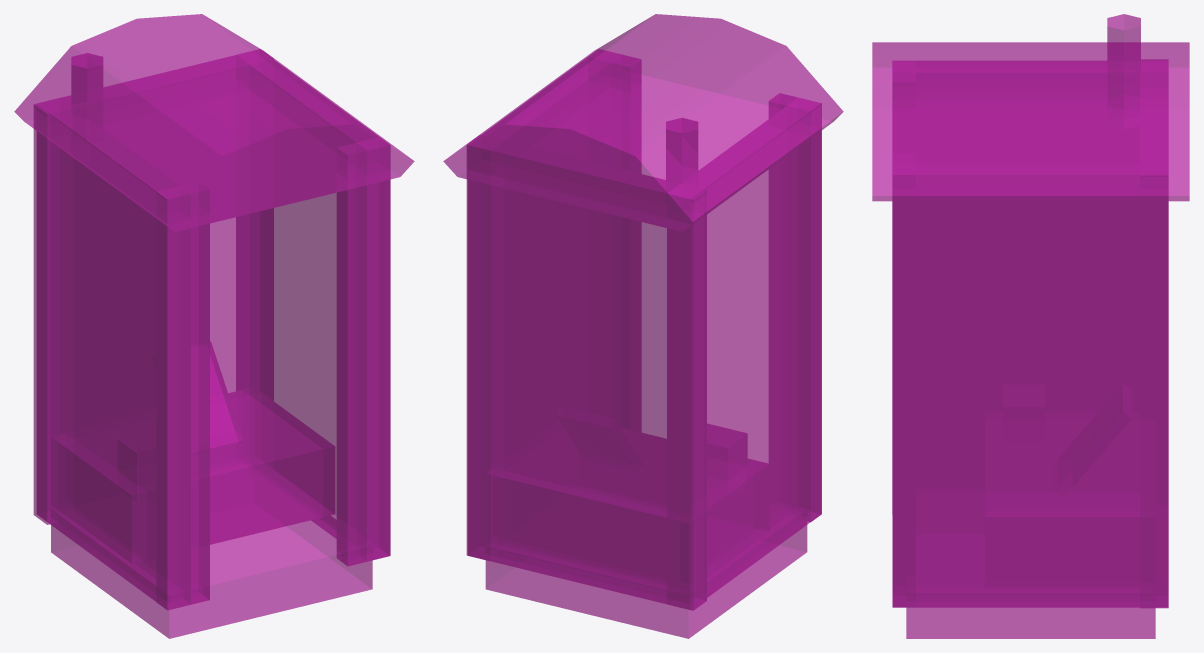
The model's file is SM_Prop_Portaloo_01_Collision.fbx.
3 views of the same model, side by side, from view 1: azimuth 30°, elevation 25°; view 2: azimuth 150°, elevation 25°; view 3: azimuth 270°, elevation 25° (orthographic). The views are drawn at different scales.
Parts seen in each view (by area): view 1: SM_Prop_Portaloo_01_Collision; view 2: SM_Prop_Portaloo_01_Collision; view 3: SM_Prop_Portaloo_01_Collision.
Boxes of the visible parts, box(x1,y1,x2,y2) form: SM_Prop_Portaloo_01_Collision: box(14, 14, 414, 638); SM_Prop_Portaloo_01_Collision: box(443, 14, 843, 638); SM_Prop_Portaloo_01_Collision: box(872, 14, 1189, 638).
Bounding box in the file's own units: 172 × 327 × 180.
